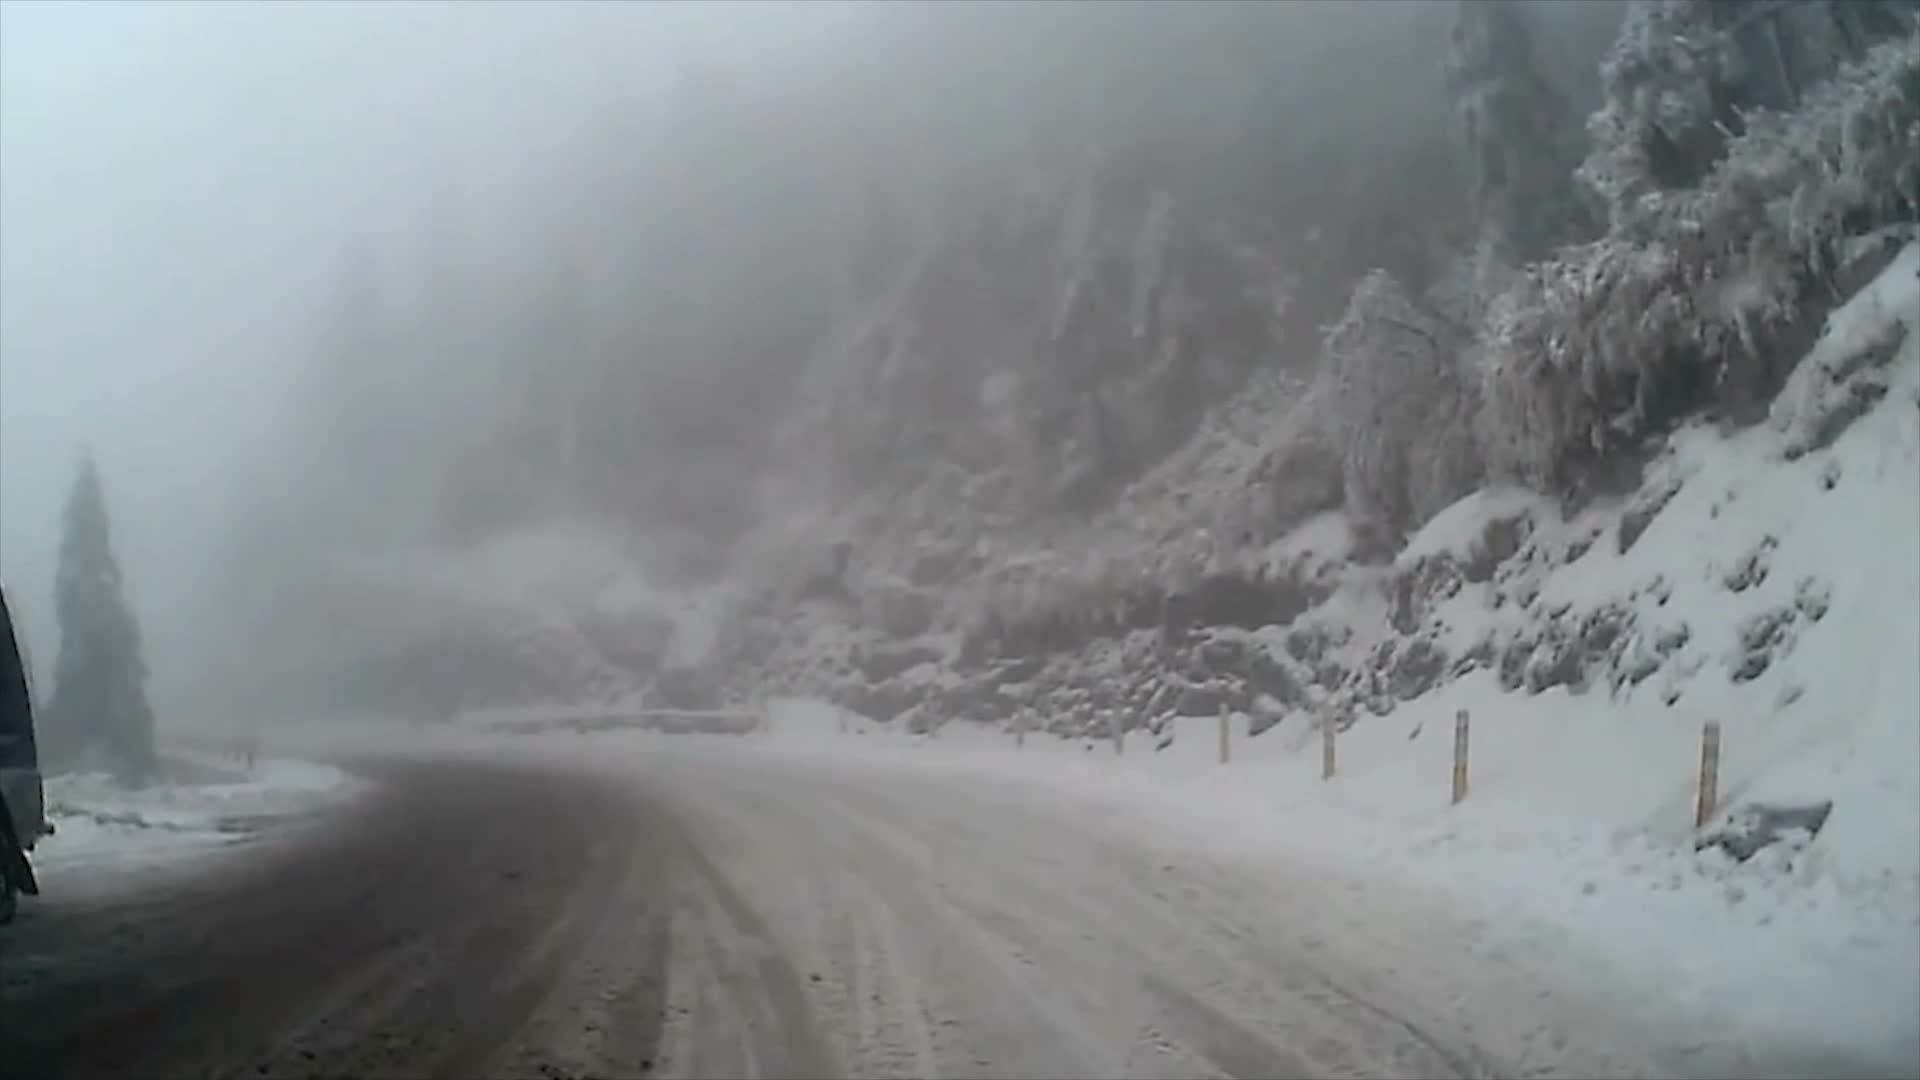vehicle: (0, 589, 55, 934)
